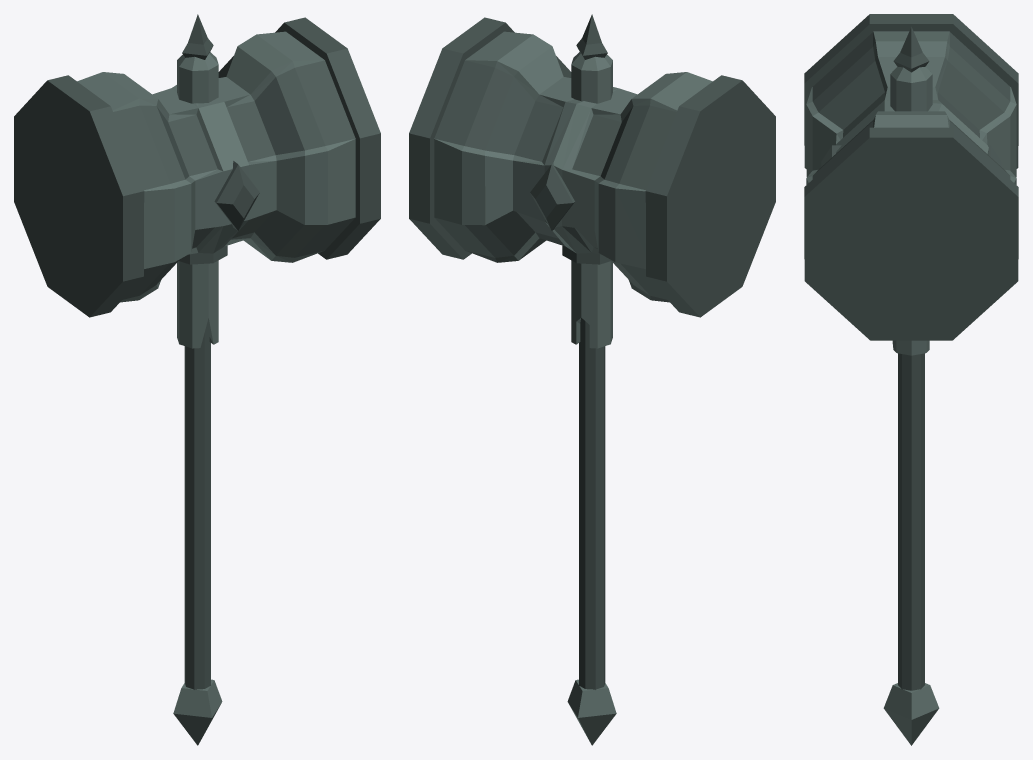
Rendered from hammer_11.glb.
The picture shows the model from 3 angles, left to right: view 1: azimuth 30°, elevation 25°; view 2: azimuth 150°, elevation 25°; view 3: azimuth 270°, elevation 25°; orthographic projection.
Parts seen in each view (by area): view 1: hammer_11; view 2: hammer_11; view 3: hammer_11.
Part boxes in pixels (x1,y1,x2,y2): hammer_11: (14, 14, 380, 745); hammer_11: (409, 14, 775, 745); hammer_11: (804, 14, 1018, 745).
Bounding box in the file's own units: 0.3249 × 0.881 × 0.2378.
1 material, 1 textured.
